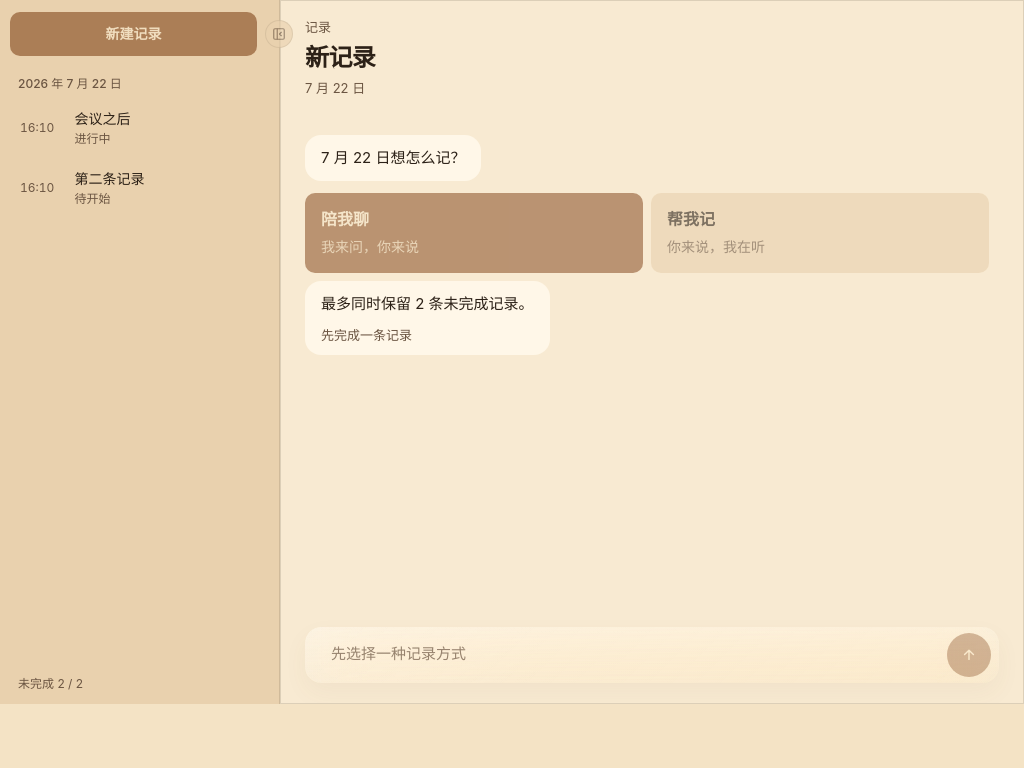
it: EventCenteredInterviewWorkspace › keeps new record focusable and shows a top toast when two unfinished records already exist
The width and height of the screenshot is (1024, 768).
Check: the text "先完成一条记录" is shown, box [321,325,412,345]
Check: the button "帮我记 你来说，我在听" is disabled, box [651,193,989,273]
Click the button "新建记录". click: (134,34)
box: [10,12,257,56]
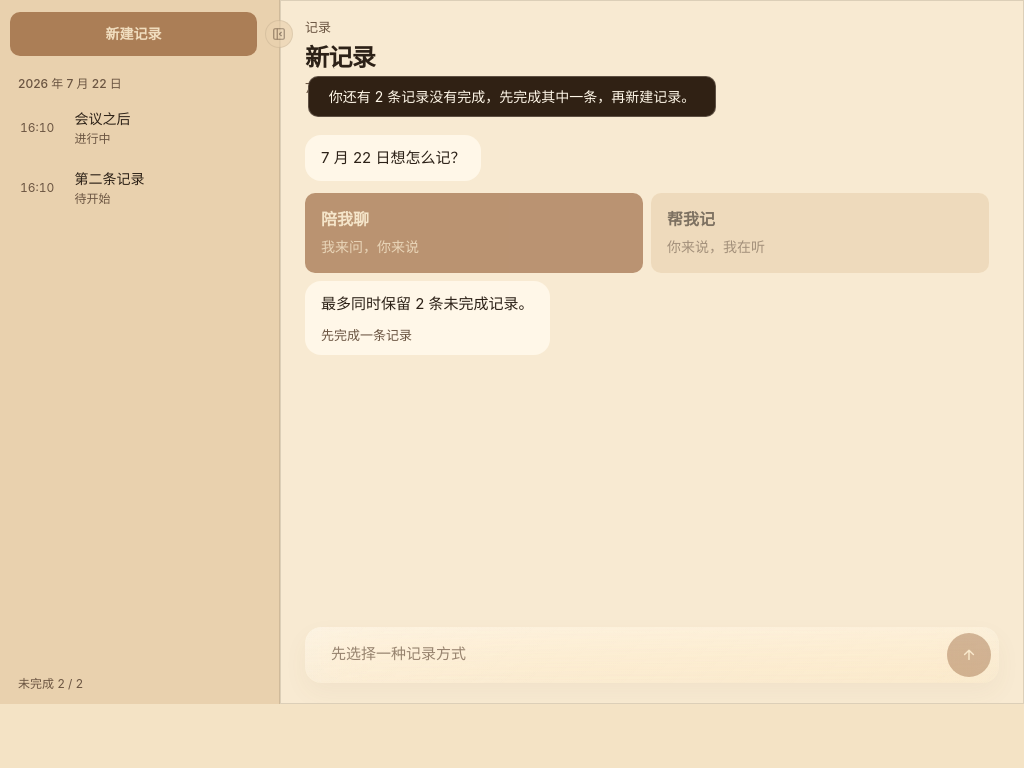
Check: the text with test id "event-centered-unfinished-limit-toast" reads "你还有 2 条记录没有完成，先完成其中一条，再新建记录。", box [329,88,695,105]
